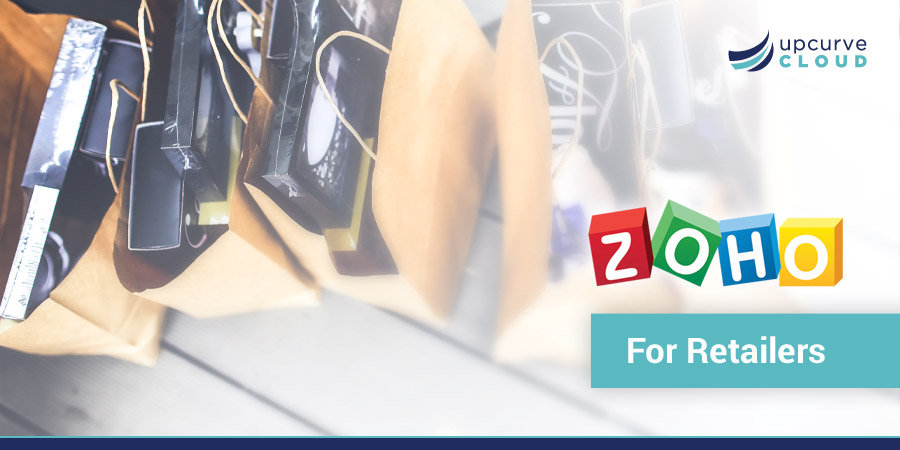zoho: (588, 199, 845, 286)
